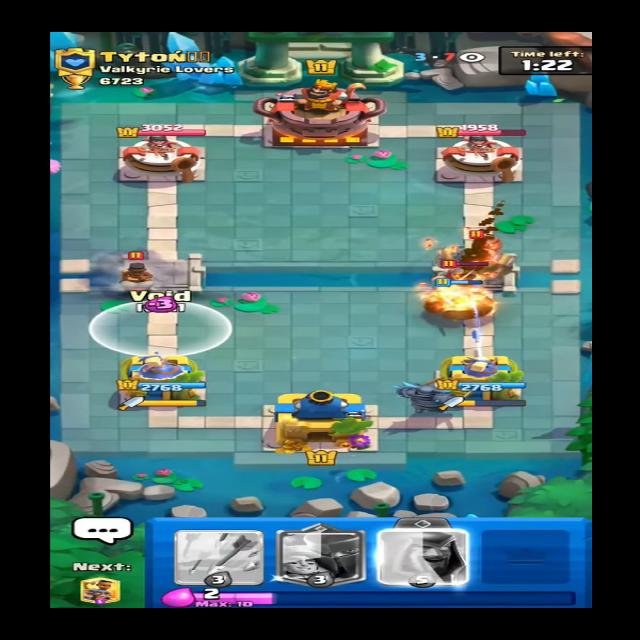goblin-machine: (432, 233, 516, 290)
knight: (432, 251, 510, 292)
ram-rider: (108, 243, 162, 296)
